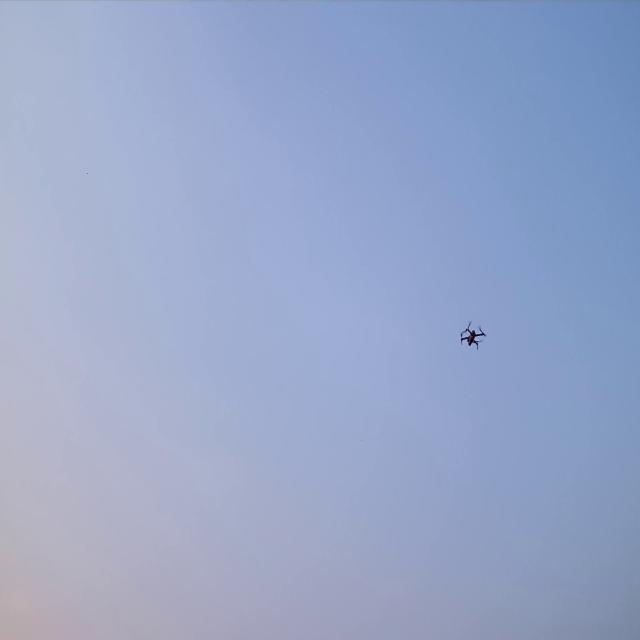UAV: (458, 319, 487, 351)
